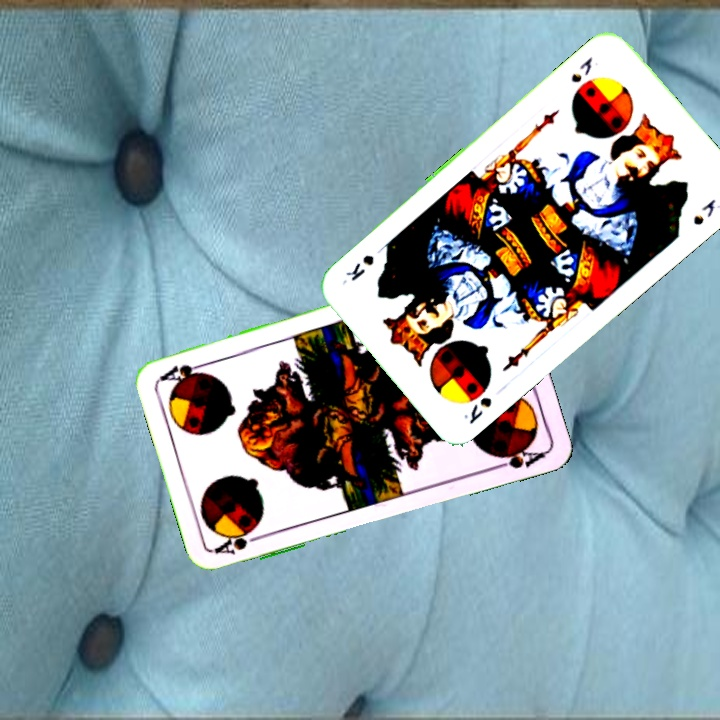SA: (211, 524, 269, 557)
SK: (459, 393, 495, 427), (567, 52, 595, 86)
